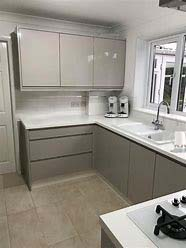copymove: (103, 94, 118, 117)
removal: (68, 90, 90, 117)
spliced: (173, 126, 186, 147)
